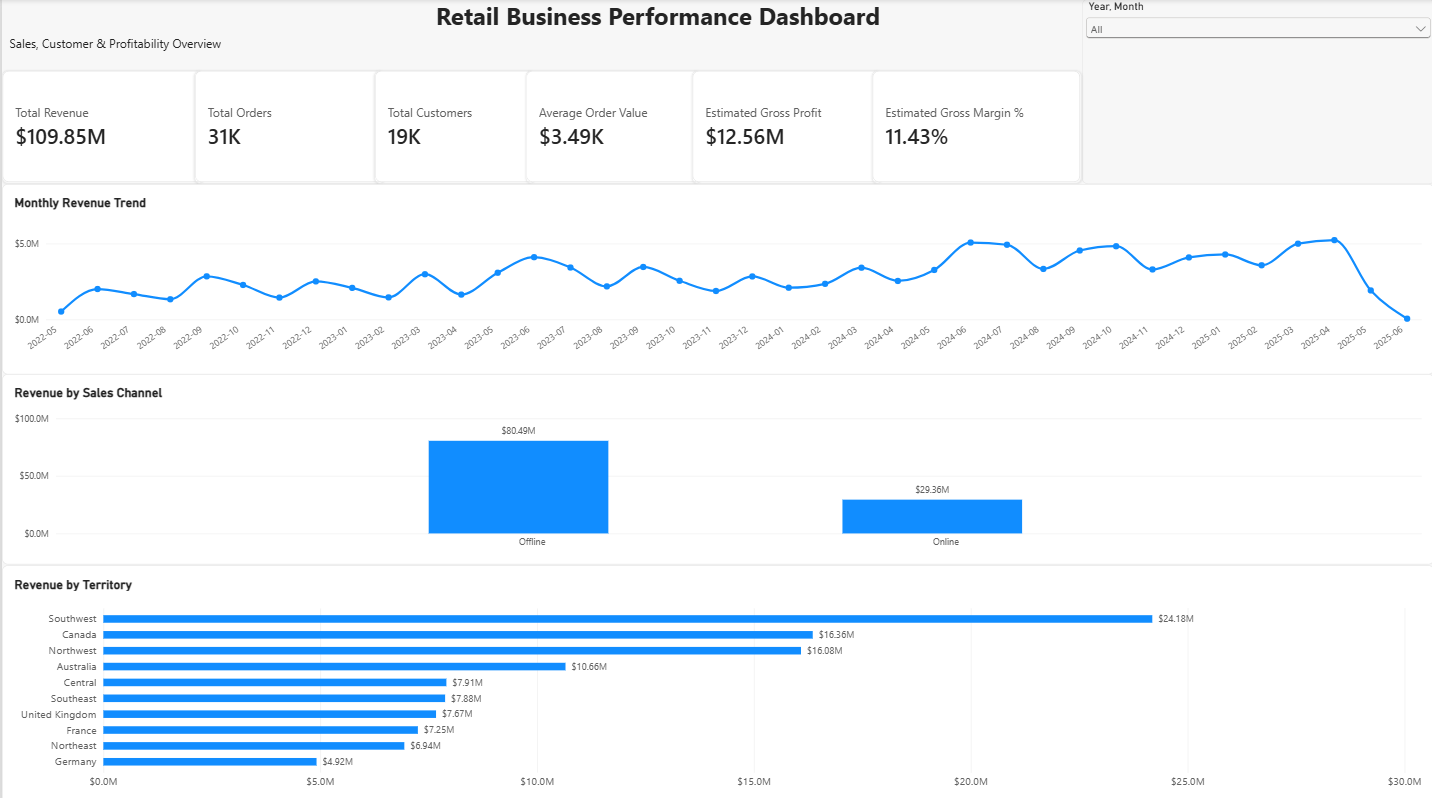

The dashboard page shown, as its layout file describes it:
{"tool":"powerbi","page":{"name":"Executive Overview","canvas":[1920,1080],"ordinal":1},"visuals":[{"type":"textbox","box":[10,0,280,280],"z":0},{"type":"textbox","box":[581.7,0,852.3,96.1],"z":1000},{"type":"textbox","box":[10.1,48.1,364.2,30.3],"z":2000},{"type":"slicer","fields":{"Values":["DateTable.Year","DateTable.Month"]},"box":[1446.6,0,472.9,247.8],"z":3000},{"type":"cardVisual","fields":{"Data":["OrderSummary.Total Revenue"]},"box":[0,96.1,270.6,151.7],"z":4000},{"type":"cardVisual","fields":{"Data":["OrderSummary.Total Orders"]},"box":[257.5,96.1,255.4,151.7],"z":5000},{"type":"cardVisual","fields":{"Data":["OrderSummary.Total Customers"]},"box":[499.9,96.1,215,151.7],"z":6000},{"type":"cardVisual","fields":{"Data":["OrderSummary.Average Order Value"]},"box":[701.8,96.1,235.2,151.7],"z":7000},{"type":"cardVisual","fields":{"Data":["OrderSummary.Estimated Gross Profit"]},"box":[923.9,96.1,255.4,151.7],"z":8000},{"type":"cardVisual","fields":{"Data":["OrderSummary.Estimated Gross Margin %"]},"box":[1166.3,96.1,280.7,151.7],"z":9000},{"type":"lineChart","title":"Monthly Revenue Trend","fields":{"Category":["DateTable.YearMonth"],"Y":["OrderSummary.Total Revenue"]},"box":[0,247.8,1919.5,255.4],"z":10000},{"type":"clusteredColumnChart","title":"Revenue by Sales Channel","fields":{"Category":["OrderSummary.sales_channel"],"Y":["OrderSummary.Total Revenue"]},"box":[0,503.3,1919.5,255.4],"z":11000},{"type":"clusteredBarChart","title":"Revenue by Territory","fields":{"Category":["OrderSummary.territory_name"],"Y":["OrderSummary.Total Revenue"]},"box":[0,758.7,1919.5,321.2],"z":12000}]}

Visuals, with their boxes in screenshot pixels (x1, y1, x2, y2), scaled from the page's 1920x1080 canvas onto the 1432x798 screenshot:
textbox: box(7, 0, 216, 207)
textbox: box(434, 0, 1070, 71)
textbox: box(8, 36, 279, 58)
slicer - DateTable.Year x DateTable.Month: box(1079, 0, 1431, 183)
cardVisual - OrderSummary.Total Revenue: box(0, 71, 202, 183)
cardVisual - OrderSummary.Total Orders: box(192, 71, 383, 183)
cardVisual - OrderSummary.Total Customers: box(373, 71, 533, 183)
cardVisual - OrderSummary.Average Order Value: box(523, 71, 699, 183)
cardVisual - OrderSummary.Estimated Gross Profit: box(689, 71, 880, 183)
cardVisual - OrderSummary.Estimated Gross Margin %: box(870, 71, 1079, 183)
"Monthly Revenue Trend" lineChart: box(0, 183, 1431, 372)
"Revenue by Sales Channel" clusteredColumnChart: box(0, 372, 1431, 561)
"Revenue by Territory" clusteredBarChart: box(0, 561, 1431, 797)
